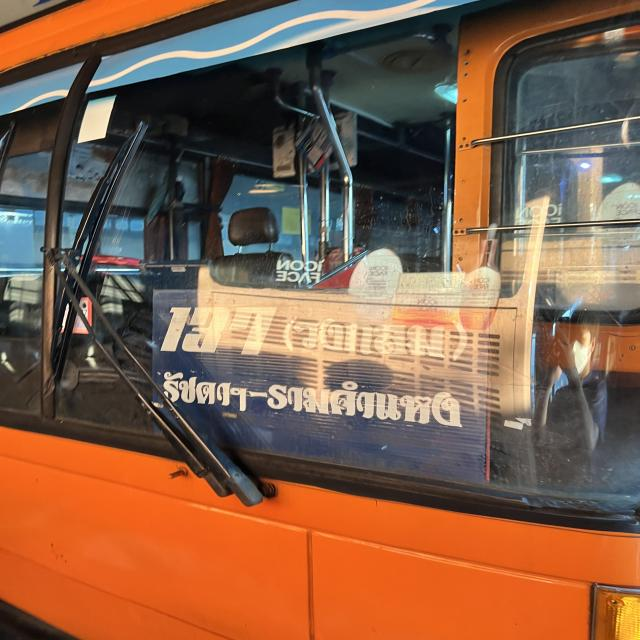BMTA-bus: (0, 0, 640, 640)
Destination-Sign-Normal: (149, 288, 487, 484)
